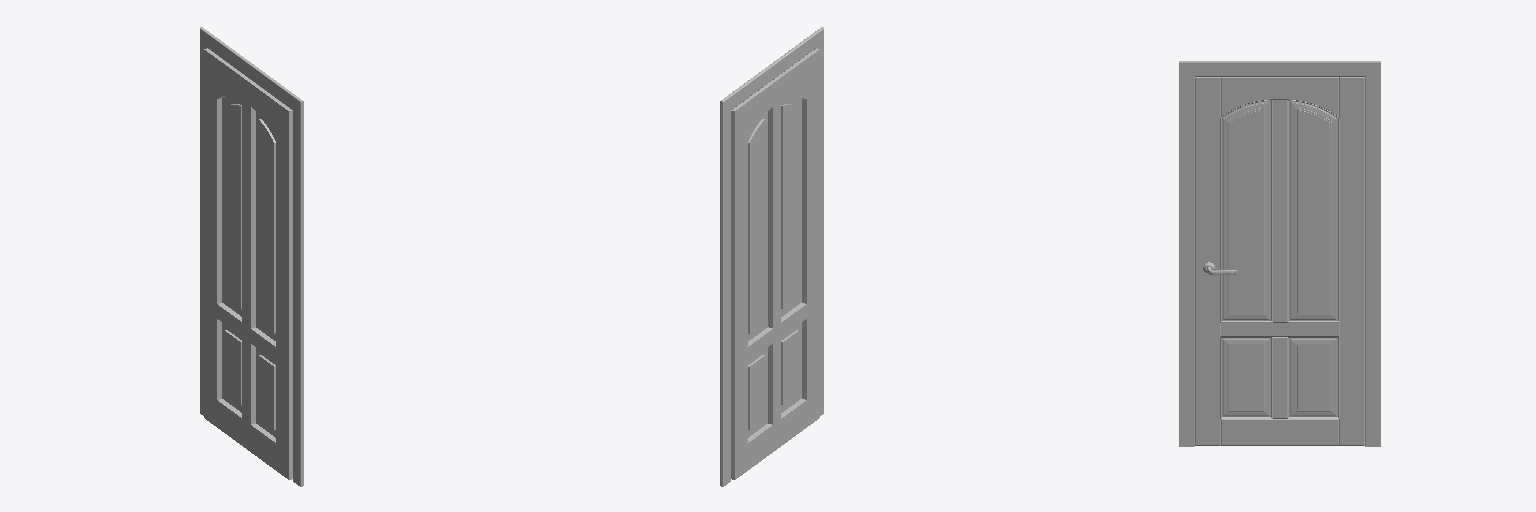
Rendered from Door.obj.
3 views of the same model, side by side, from view 1: azimuth 30°, elevation 25°; view 2: azimuth 150°, elevation 25°; view 3: azimuth 270°, elevation 25° (orthographic).
Parts seen in each view (by area): view 1: Door:frise11_z_ polySurface4; view 2: Door:frise11_z_ polySurface4; view 3: Door:frise11_z_ polySurface4.
Boxes of the visible parts, <box> form: Door:frise11_z_ polySurface4: <box>200,27,303,486</box>; Door:frise11_z_ polySurface4: <box>720,27,823,486</box>; Door:frise11_z_ polySurface4: <box>1179,61,1380,446</box>.
Size of the model in its own units: 112 by 2191 by 1043.